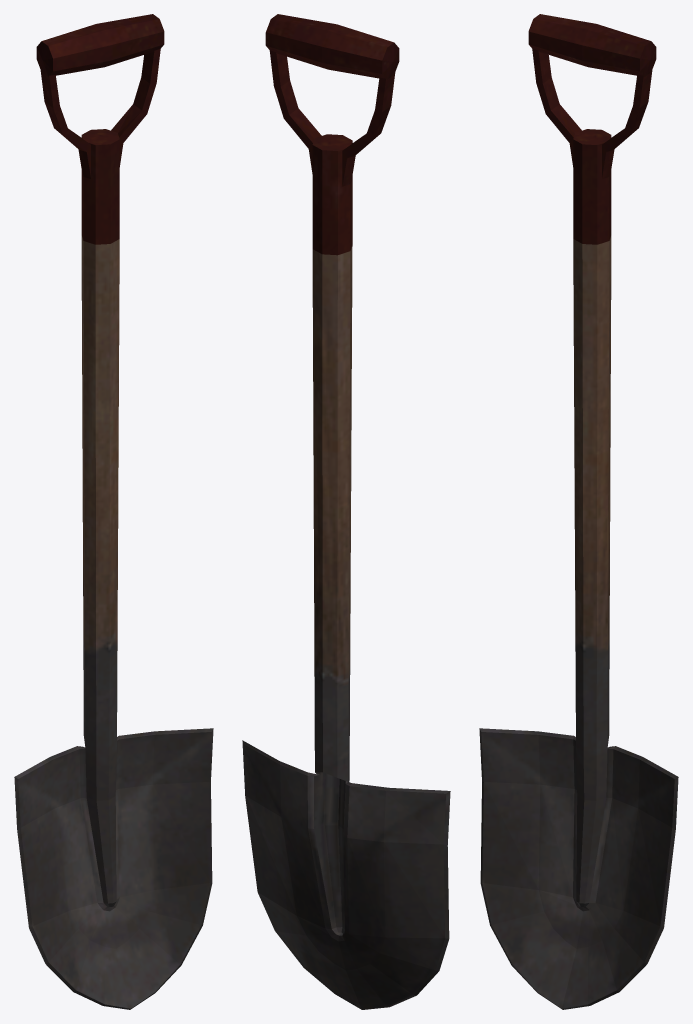
Rendered from Shovel (DR).obj.
3 views of the same model, side by side, from view 1: azimuth 30°, elevation 25°; view 2: azimuth 150°, elevation 25°; view 3: azimuth 330°, elevation 25° (orthographic). The views are drawn at different scales.
Parts seen in each view (by area): view 1: rdmobj01_model\om\om0; view 2: rdmobj01_model\om\om0; view 3: rdmobj01_model\om\om0.
Part boxes in pixels (left/top/right/bottom): rdmobj01_model\om\om0: left=14, top=14, right=213, bottom=1009; rdmobj01_model\om\om0: left=242, top=14, right=450, bottom=1009; rdmobj01_model\om\om0: left=479, top=14, right=678, bottom=1009.
Size of the model in its own units: 0.9339 by 4.31 by 0.3294.
